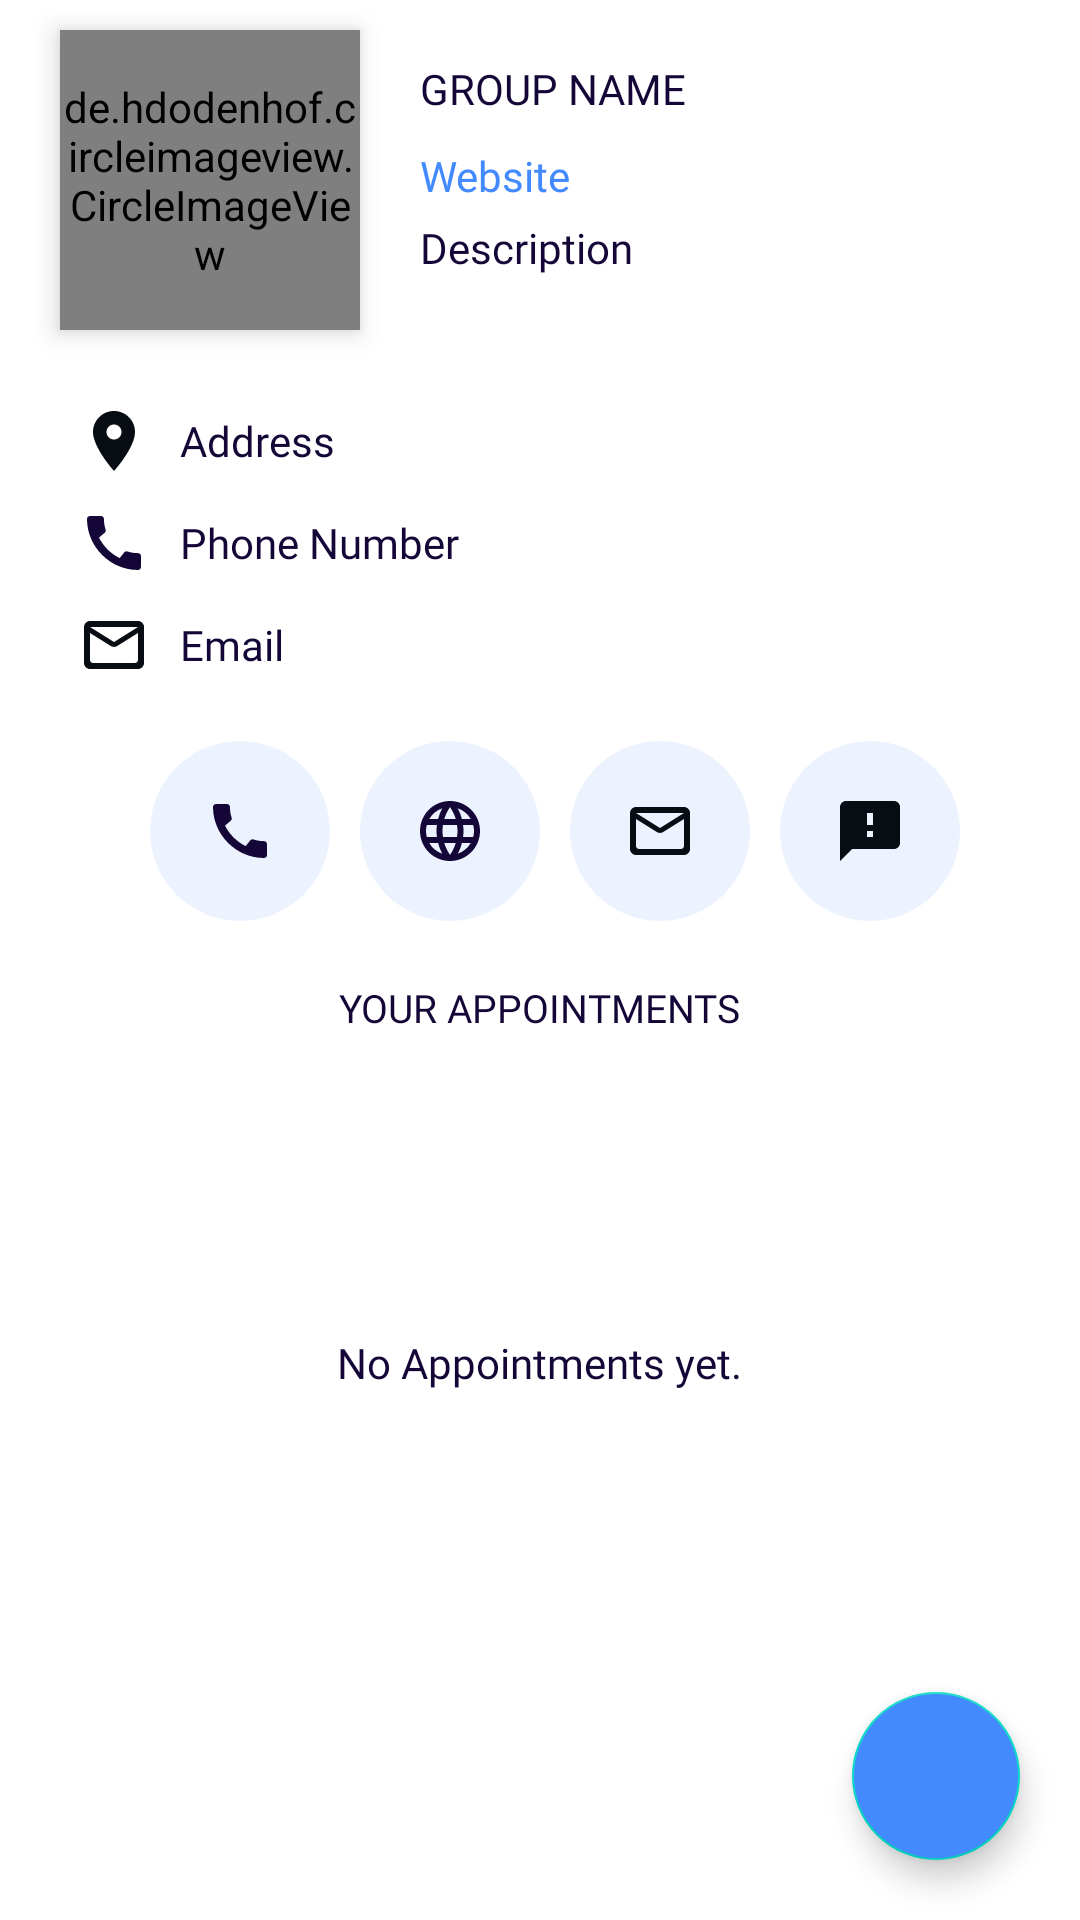

Icon bounding boxes for this 1080px x 1920px phone screenshot, format (x1, y1, x2, y2):
call: (150, 741, 330, 921)
feedback: (840, 801, 900, 861)
language: (420, 801, 480, 861)
mail: (630, 807, 690, 855)
